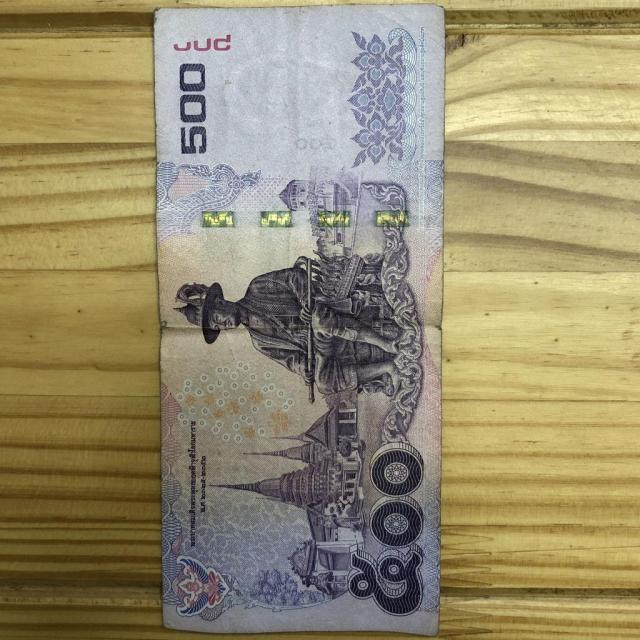THAI500: (155, 4, 444, 635)
